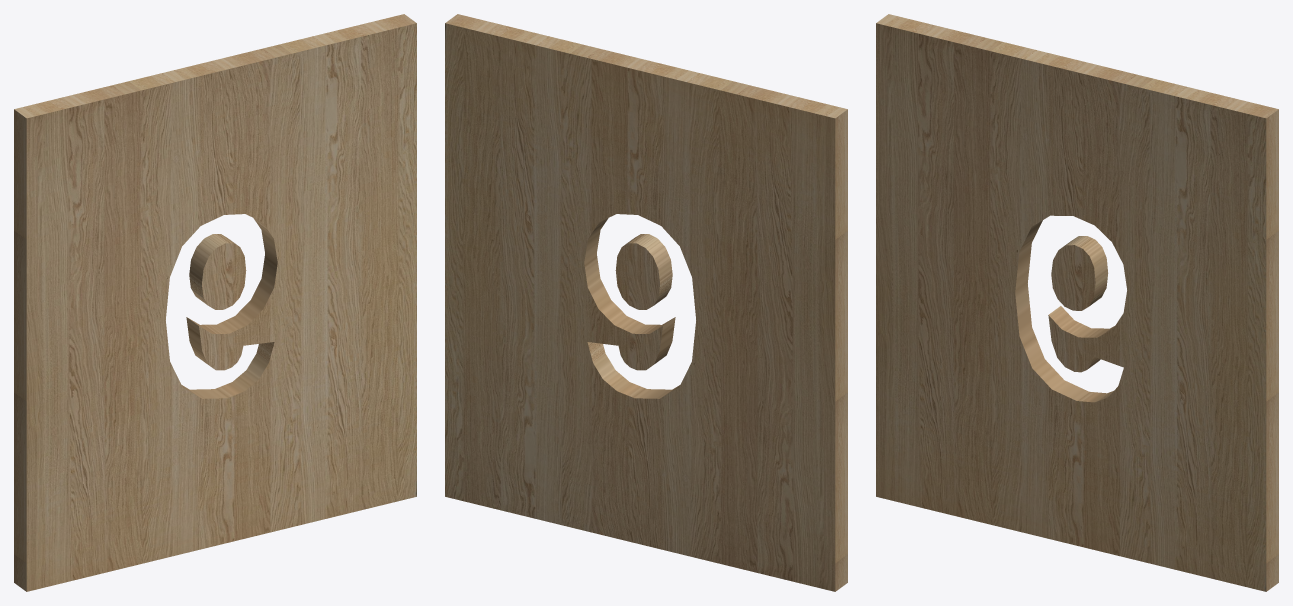
3 renders of one model, left to right at view 1: azimuth 30°, elevation 25°; view 2: azimuth 150°, elevation 25°; view 3: azimuth 330°, elevation 25°, orthographic.
Visible parts, largest first — view 1: so9; view 2: so9; view 3: so9.
Boxes of the visible parts, x1,y1,x2,y2 form: so9: [14, 14, 416, 591]; so9: [445, 14, 847, 591]; so9: [876, 14, 1278, 591].
Size of the model in its own units: 2.89 by 3.36 by 0.1618.
Materials: 1 (1 with a texture image).
